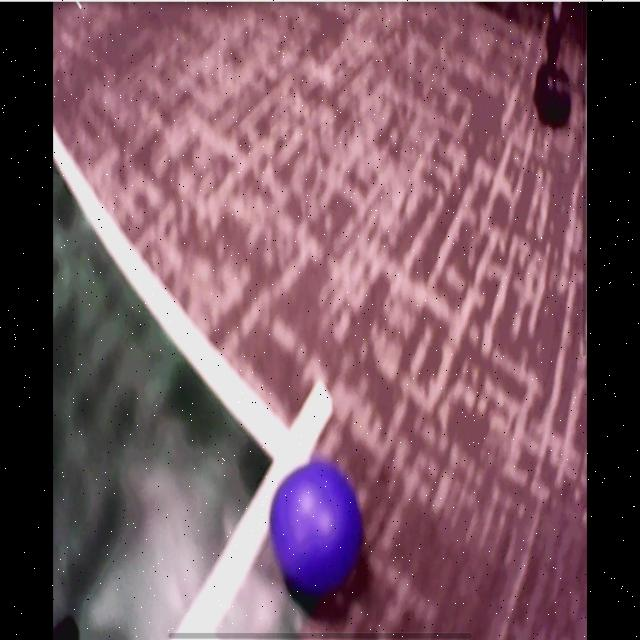ball: (272, 465, 361, 589)
